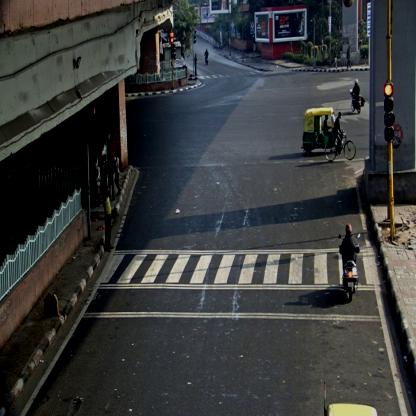motorcycle: (339, 222, 361, 300), (325, 112, 356, 164), (350, 80, 364, 114), (204, 48, 210, 64)
